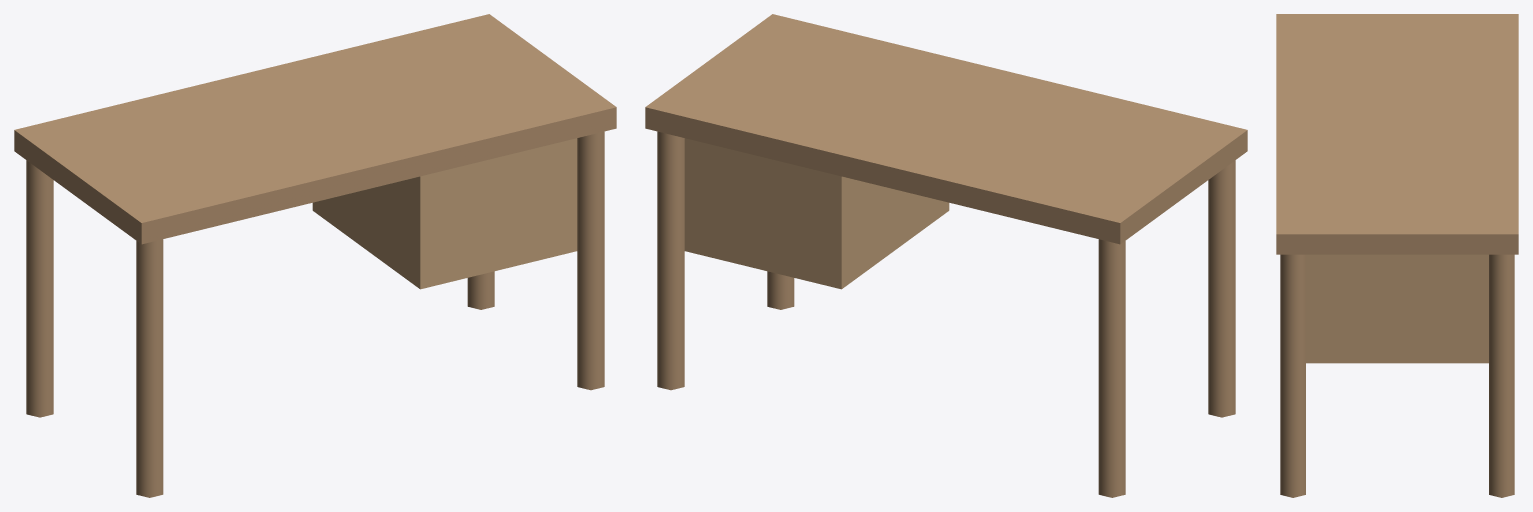
File: escrivaninha.glb
The picture shows the model from 3 angles, left to right: view 1: azimuth 30°, elevation 25°; view 2: azimuth 150°, elevation 25°; view 3: azimuth 270°, elevation 25°; orthographic projection. The views are drawn at different scales.
Parts seen in each view (by area): view 1: root; view 2: root; view 3: root.
Boxes of the visible parts, <box> form: root: <box>14,14,616,497</box>; root: <box>645,14,1247,497</box>; root: <box>1276,14,1518,497</box>.
Bounding box in the file's own units: 1.4 × 0.785 × 0.65.
